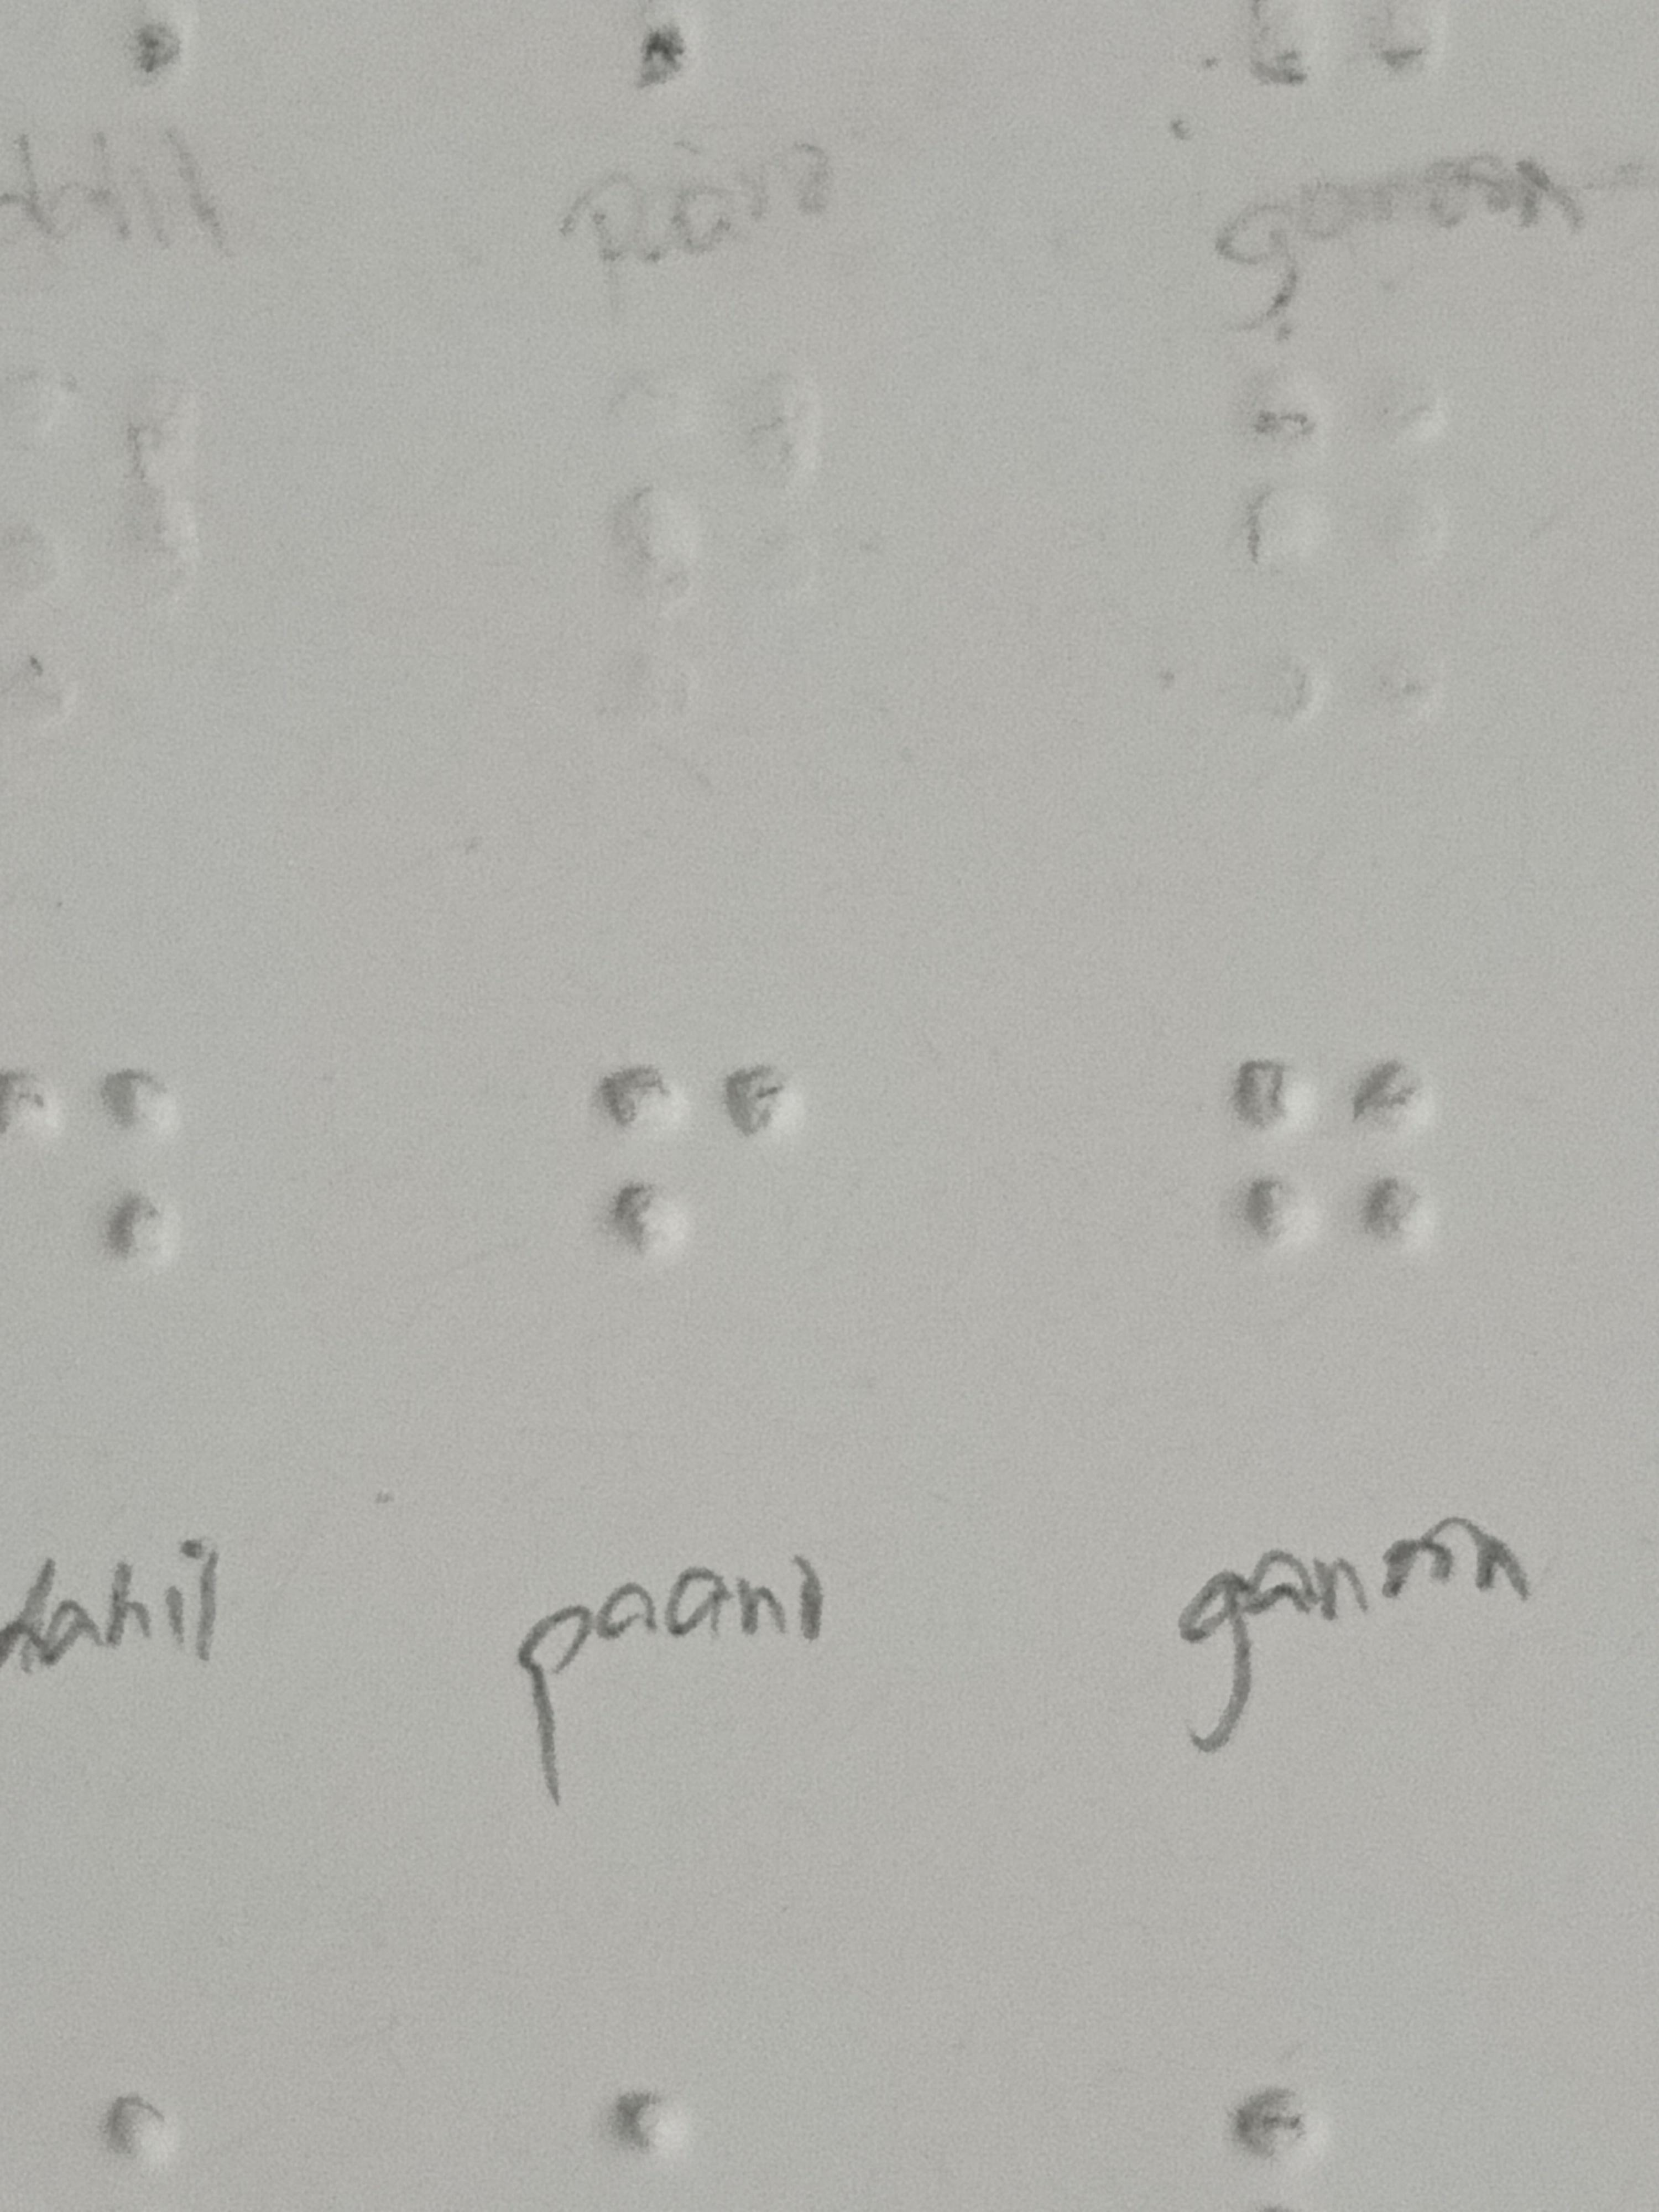one_cell_alphabet_ganoon: (1227, 1047, 1443, 1428)
one_cell_alphabet_paano: (598, 1052, 814, 1432)
